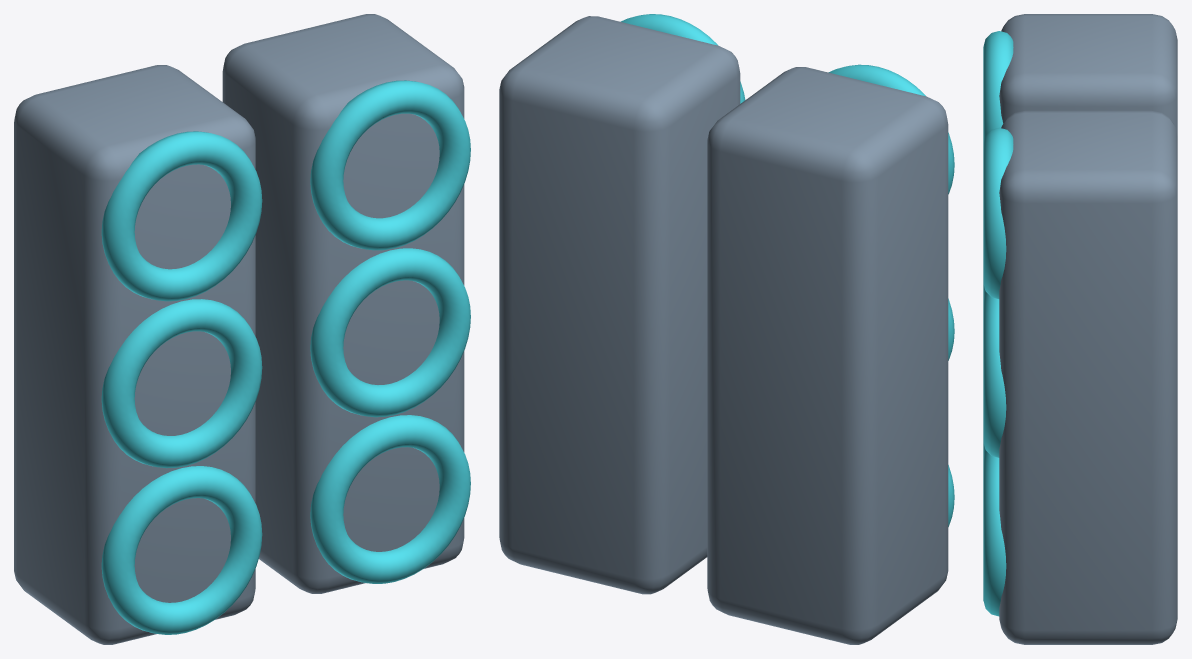
The model's file is greaves_v8.glb.
The picture shows the model from 3 angles, left to right: view 1: azimuth 30°, elevation 25°; view 2: azimuth 150°, elevation 25°; view 3: azimuth 270°, elevation 25°; orthographic projection. The views are drawn at different scales.
Visible parts, largest first — view 1: CLOCKWORK_GREAVE_PRIMARY, CLOCKWORK_GREAVE_PRIMARY.001, GREAVE_GEAR_ACCENT.005, GREAVE_GEAR_ACCENT.002, GREAVE_GEAR_ACCENT.004, GREAVE_GEAR_ACCENT.003, GREAVE_GEAR_ACCENT, GREAVE_GEAR_ACCENT.001; view 2: CLOCKWORK_GREAVE_PRIMARY, CLOCKWORK_GREAVE_PRIMARY.001, GREAVE_GEAR_ACCENT.002, GREAVE_GEAR_ACCENT.005; view 3: CLOCKWORK_GREAVE_PRIMARY.001, CLOCKWORK_GREAVE_PRIMARY, GREAVE_GEAR_ACCENT.005, GREAVE_GEAR_ACCENT.004, GREAVE_GEAR_ACCENT.003, GREAVE_GEAR_ACCENT.002.
Boxes of the visible parts, x1=… form: CLOCKWORK_GREAVE_PRIMARY: x1=14, y1=65, x2=255, y2=644; CLOCKWORK_GREAVE_PRIMARY.001: x1=222, y1=14, x2=464, y2=593; GREAVE_GEAR_ACCENT.005: x1=310, y1=80, x2=470, y2=250; GREAVE_GEAR_ACCENT.002: x1=101, y1=131, x2=262, y2=301; GREAVE_GEAR_ACCENT.004: x1=310, y1=248, x2=470, y2=417; GREAVE_GEAR_ACCENT.003: x1=310, y1=415, x2=470, y2=583; GREAVE_GEAR_ACCENT: x1=101, y1=466, x2=262, y2=634; GREAVE_GEAR_ACCENT.001: x1=101, y1=299, x2=262, y2=468; CLOCKWORK_GREAVE_PRIMARY: x1=707, y1=67, x2=948, y2=644; CLOCKWORK_GREAVE_PRIMARY.001: x1=499, y1=16, x2=740, y2=594; GREAVE_GEAR_ACCENT.002: x1=828, y1=64, x2=954, y2=194; GREAVE_GEAR_ACCENT.005: x1=621, y1=14, x2=745, y2=103; CLOCKWORK_GREAVE_PRIMARY.001: x1=999, y1=110, x2=1177, y2=644; CLOCKWORK_GREAVE_PRIMARY: x1=999, y1=14, x2=1177, y2=135; GREAVE_GEAR_ACCENT.005: x1=983, y1=127, x2=1013, y2=298; GREAVE_GEAR_ACCENT.004: x1=983, y1=293, x2=1006, y2=457; GREAVE_GEAR_ACCENT.003: x1=983, y1=452, x2=1006, y2=616; GREAVE_GEAR_ACCENT.002: x1=983, y1=31, x2=1013, y2=142.
Bounding box in the file's own units: 1.3 × 1.66 × 0.61.
